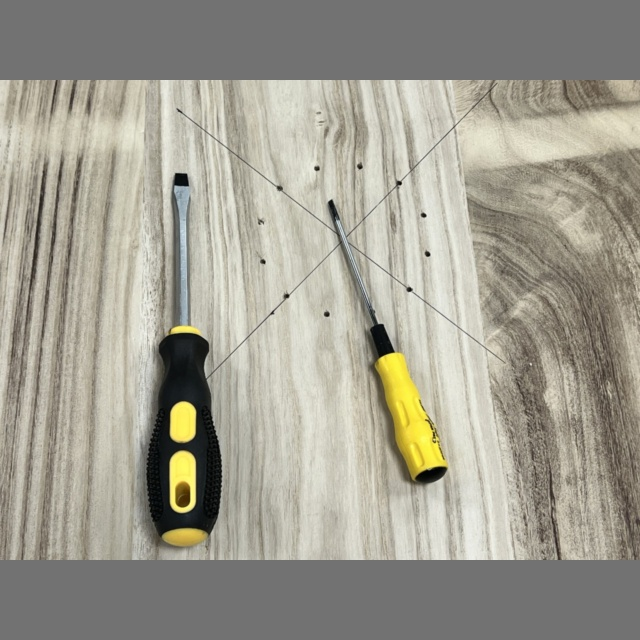screwdriver: (328, 200, 447, 482), (147, 175, 222, 547)
